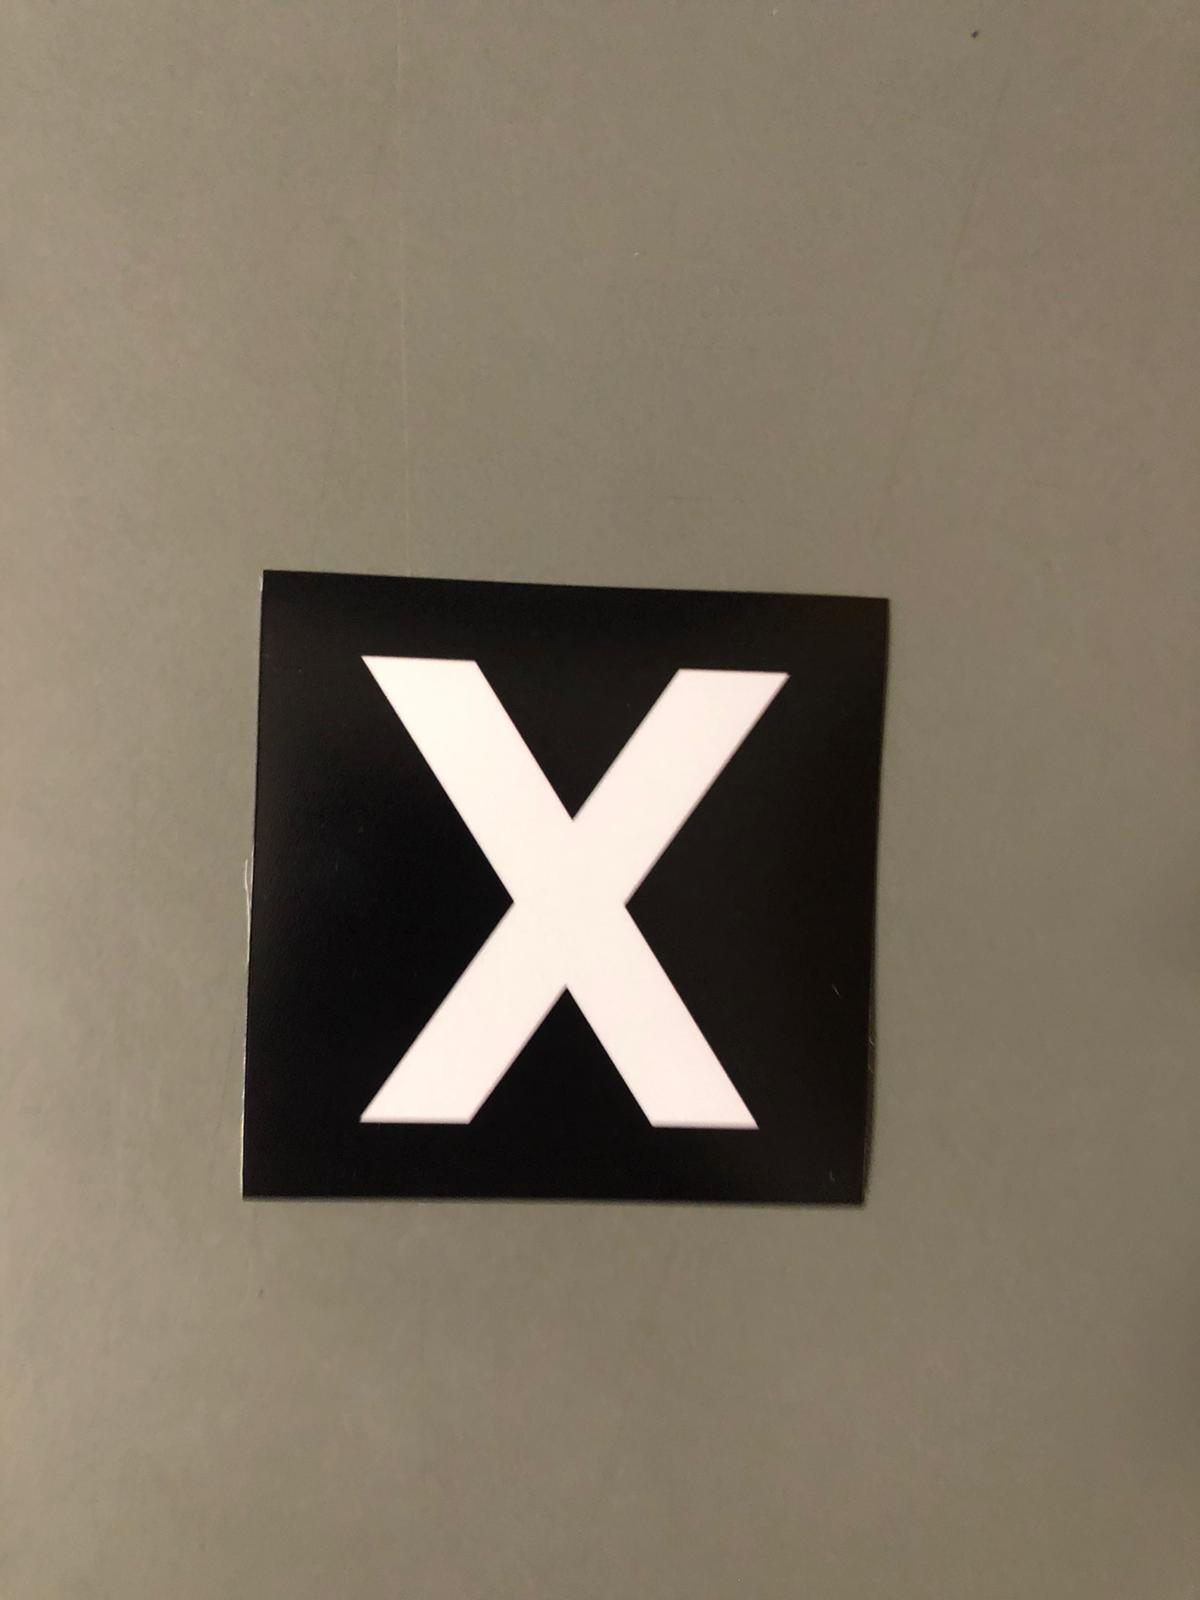X: (279, 609, 831, 1174)
